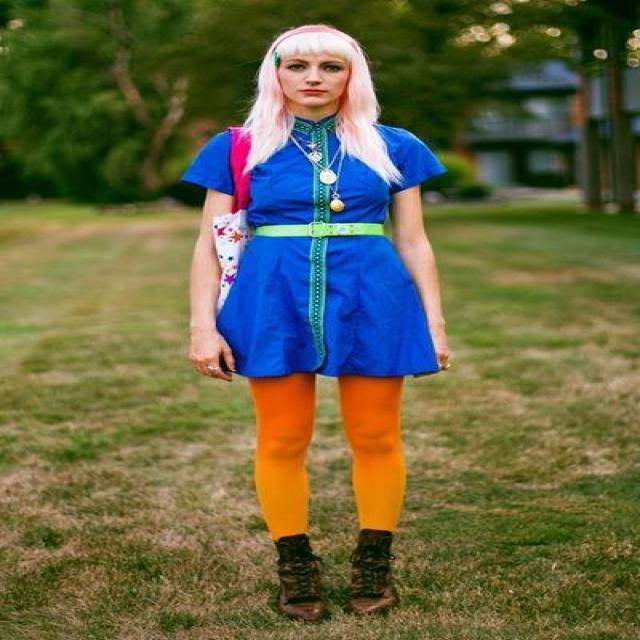bag: (193, 129, 250, 376)
dress: (182, 118, 446, 376)
shoe: (254, 529, 408, 625)
